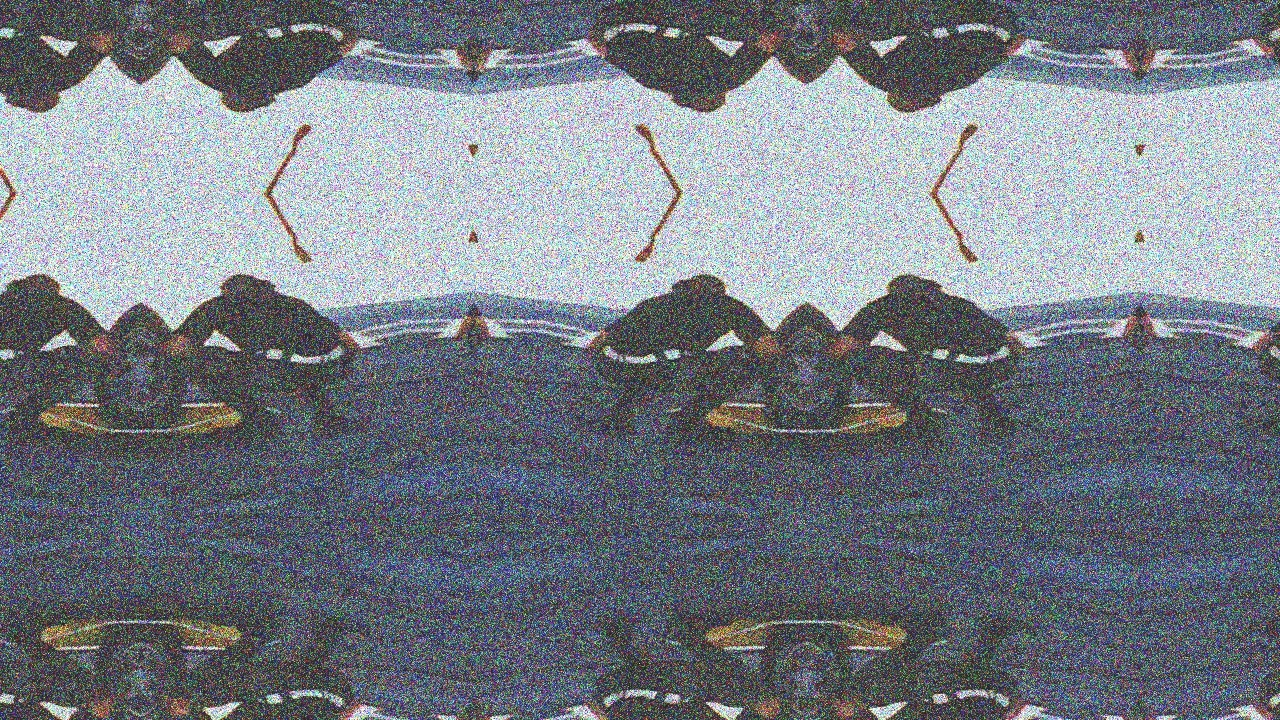chock: (30, 396, 140, 445), (140, 396, 250, 445), (697, 396, 807, 445), (807, 396, 917, 445), (30, 609, 140, 657), (140, 609, 250, 657), (697, 609, 807, 657), (807, 609, 917, 657)
wheel: (79, 285, 140, 447), (140, 285, 201, 447), (746, 285, 807, 447), (807, 285, 868, 447), (79, 606, 140, 720), (140, 606, 201, 720), (746, 606, 807, 720), (807, 606, 868, 720), (79, 0, 140, 101), (140, 0, 201, 101), (746, 0, 807, 101), (807, 0, 868, 101)
